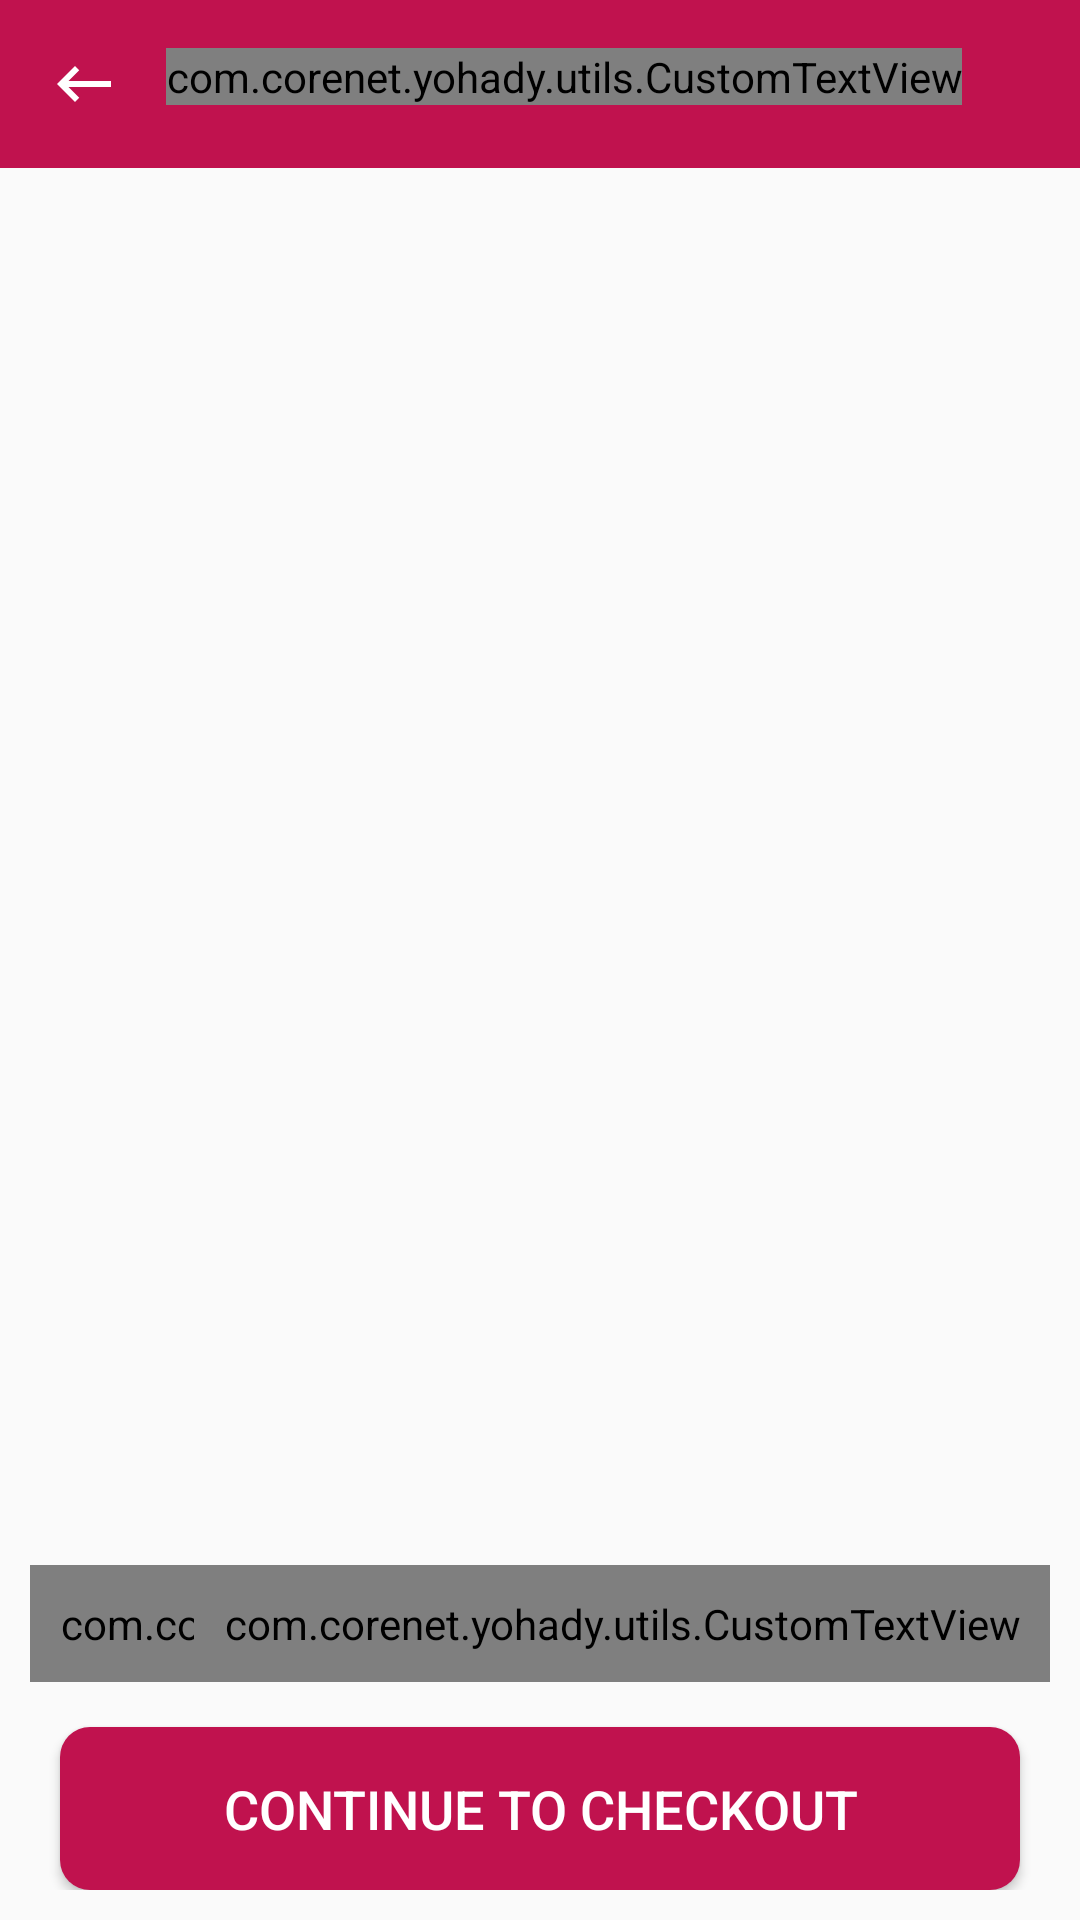

Icons on this 1080px x 1920px Android screen, each with its box as Rect(x1, y1, x2, y2):
keyboard backspace: Rect(57, 66, 111, 102)
